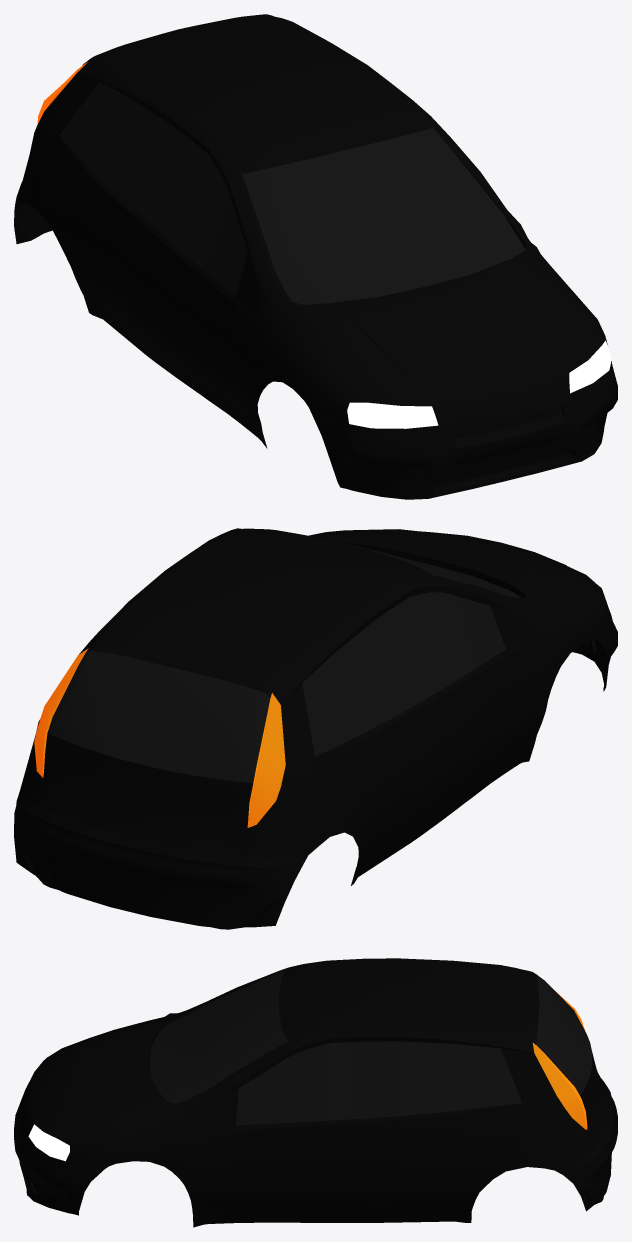
File: punto_2.glb
3 renders of one model, top to bottom at view 1: azimuth 30°, elevation 25°; view 2: azimuth 150°, elevation 25°; view 3: azimuth 270°, elevation 25°, orthographic. The views are drawn at different scales.
Visible parts, largest first — view 1: MainBody; view 2: MainBody, RearLight; view 3: MainBody, RearLight.
Part boxes in pixels (x1,y1,x2,y2): MainBody: (14,14,617,499); MainBody: (14,528,617,929); RearLight: (34,648,285,827); MainBody: (14,958,617,1227); RearLight: (532,991,587,1129).
Size of the model in its own units: 1.02 by 0.7999 by 2.32.
